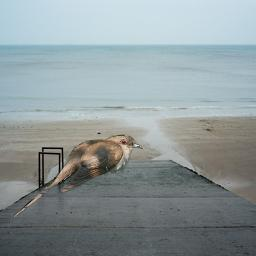Cuckoo: (13, 134, 143, 218)
